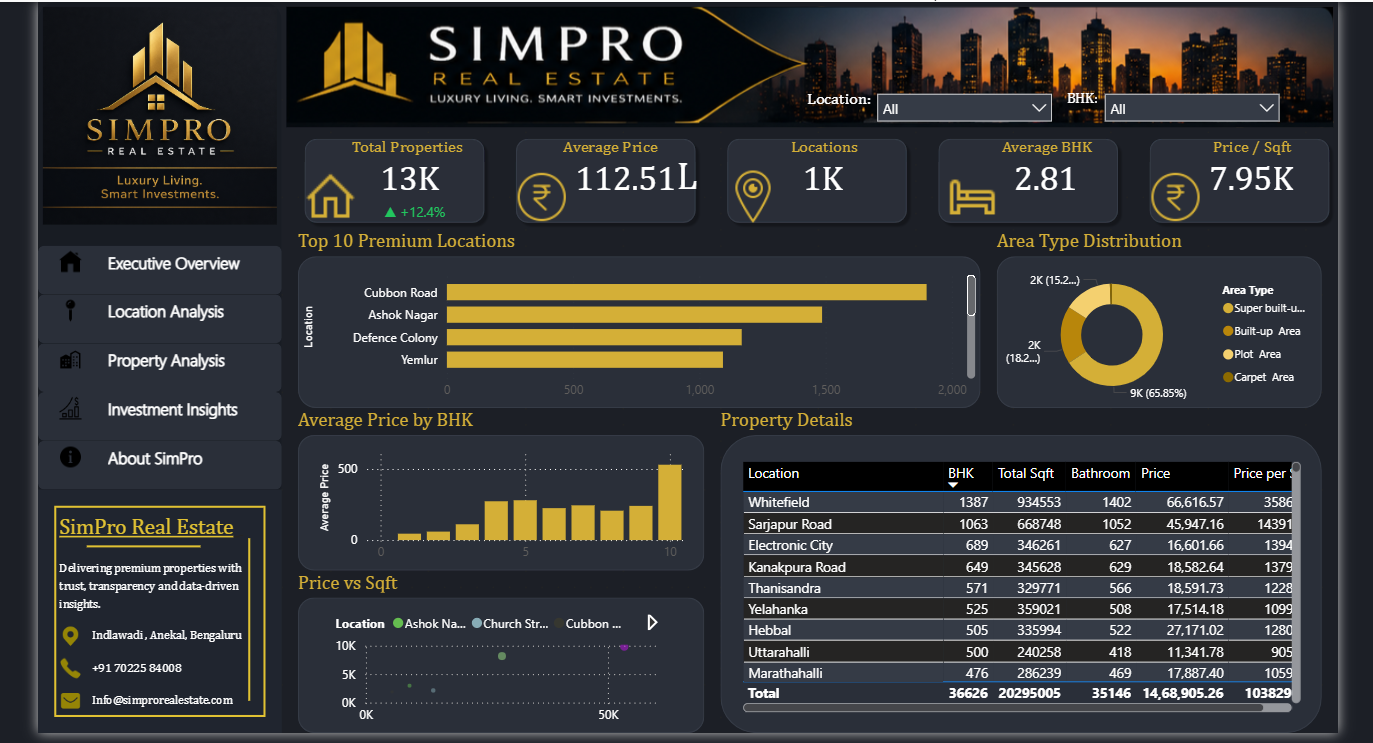

The page's visual inventory and layout, read from the dashboard file:
{"tool":"powerbi","page":{"name":"Page 1","canvas":[1280,720],"ordinal":0},"visuals":[{"type":"shape","box":[0,0,240,720],"z":0},{"type":"image","box":[240,0,1040,128],"z":1000},{"type":"image","box":[0,0,240,224],"z":2000},{"type":"shape","box":[0,240,240,48],"z":3000},{"type":"textbox","box":[64,240,160,32],"z":4000},{"type":"image","box":[16,240,32,32],"z":5000},{"type":"shape","box":[0,288,240,48],"z":6000},{"type":"textbox","box":[64,288,144,32],"z":7000},{"type":"image","box":[16,288,32,32],"z":8000},{"type":"shape","box":[0,336,240,48],"z":9000},{"type":"shape","box":[0,432,240,48],"z":10000},{"type":"shape","box":[0,384,240,48],"z":11000},{"type":"textbox","box":[64,432,112,32],"z":12000},{"type":"image","box":[16,432,32,32],"z":13000},{"type":"image","box":[16,384,32,32],"z":14000},{"type":"image","box":[16,336,32,32],"z":15000},{"type":"textbox","box":[64,384,176,32],"z":16000},{"type":"textbox","box":[64,336,144,32],"z":17000},{"type":"shape","box":[0,480,240,240],"z":18000},{"type":"textbox","box":[16,496,208,160],"z":19000},{"type":"textbox","box":[48,608,192,32],"z":20000},{"type":"image","box":[16,608,32,32],"z":21000},{"type":"image","box":[16,640,32,32],"z":22000},{"type":"textbox","box":[48,640,128,32],"z":23000},{"type":"image","box":[16,672,32,32],"z":24000},{"type":"textbox","box":[48,672,176,32],"z":25000},{"type":"shape","box":[16,496,208,208],"z":26000},{"type":"shape","box":[192,528,32,160],"z":27000},{"type":"shape","box":[48,528,112,16],"z":28000},{"type":"shape","box":[256,128,190,96],"z":29000},{"type":"shape","box":[464,128,190,96],"z":30000},{"type":"shape","box":[672,128,190,96],"z":31000},{"type":"shape","box":[880,128,190,96],"z":32000},{"type":"shape","box":[1088,128,190,96],"z":33000},{"type":"image","box":[256,160,64,64],"z":34000},{"type":"image","box":[464,160,64,64],"z":35000},{"type":"image","box":[672,160,64,64],"z":36000},{"type":"image","box":[880,160,80,64],"z":37000},{"type":"image","box":[1088,160,64,64],"z":38000},{"type":"textbox","box":[304,128,128,32],"z":39000},{"type":"textbox","box":[336,192,96,32],"z":41000},{"type":"textbox","box":[512,128,192,32],"z":42000},{"type":"textbox","box":[736,128,96,32],"z":43000},{"type":"textbox","box":[944,128,112,32],"z":44000},{"type":"textbox","box":[1152,128,96,32],"z":45000},{"type":"shape","title":"Top 10 Premium Locations","box":[256,224,672,176],"z":46000},{"type":"shape","title":"Area Type Distribution","box":[944,224,320,176],"z":47000},{"type":"shape","title":"Price vs Sqft","box":[256,560,400,160],"z":48000},{"type":"shape","title":"Average Price by BHK","box":[256,400,400,160],"z":51000},{"type":"shape","title":"Property Details","box":[672,400,592,320],"z":52000},{"type":"cardVisual","fields":{"Data":["Measures (2).Total Properties"]},"box":[320,128,96,64],"z":52001},{"type":"cardVisual","fields":{"Data":["Measures (2).Average Price"]},"box":[512,128,144,64],"z":52002},{"type":"cardVisual","fields":{"Data":["Measures (2).Total Locations"]},"box":[736,128,80,64],"z":52003},{"type":"cardVisual","fields":{"Data":["Measures (2).Average BHK"]},"box":[944,128,112,64],"z":52004},{"type":"cardVisual","fields":{"Data":["Measures (2).Average Price per Sqft"]},"box":[1136,128,128,64],"z":52005},{"type":"textbox","box":[624,144,32,64],"z":52006},{"type":"clusteredBarChart","fields":{"Category":["Properties.Location"],"Y":["Measures (2).Average Price"]},"box":[256,256,672,144],"z":52007},{"type":"donutChart","fields":{"Y":["Measures (2).Total Properties"],"Category":["Properties.Area_type"]},"box":[944,256,320,144],"z":52008},{"type":"clusteredColumnChart","fields":{"Category":["Properties.BHK"],"Y":["Measures (2).Average Price"]},"box":[272,432,368,128],"z":52009},{"type":"scatterChart","fields":{"X":["Sum(Properties.Total Sqft)"],"Y":["Sum(Properties.Price)"],"Series":["Properties.Location"],"Size":["Sum(Properties.BHK)"]},"box":[288,592,336,128],"z":52010},{"type":"tableEx","fields":{"Values":["Properties.Location","Sum(Properties.BHK)","Sum(Properties.Total Sqft)","Sum(Properties.Bathroom)","Sum(Properties.Price)","Sum(Properties.Price per Sqft)"]},"box":[688,448,560,256],"z":52011},{"type":"image","box":[240,0,1040,128],"z":52012},{"type":"slicer","fields":{"Values":["Properties.Location"]},"box":[816,80,192,48],"z":52013},{"type":"textbox","box":[752,80,96,32],"z":52014},{"type":"slicer","fields":{"Values":["Properties.BHK"]},"box":[1040,80,192,48],"z":52015},{"type":"textbox","box":[1008,80,48,32],"z":52016}]}

Visuals, with their boxes on the page's 1280x720 design canvas (x1, y1, x2, y2). These are canvas units, not pixel positions in the 1373x743 screenshot, which may show the page scaled, cropped or inside an application window:
shape: (x1=0, y1=0, x2=240, y2=720)
image: (x1=240, y1=0, x2=1280, y2=128)
image: (x1=0, y1=0, x2=240, y2=224)
shape: (x1=0, y1=240, x2=240, y2=288)
textbox: (x1=64, y1=240, x2=224, y2=272)
image: (x1=16, y1=240, x2=48, y2=272)
shape: (x1=0, y1=288, x2=240, y2=336)
textbox: (x1=64, y1=288, x2=208, y2=320)
image: (x1=16, y1=288, x2=48, y2=320)
shape: (x1=0, y1=336, x2=240, y2=384)
shape: (x1=0, y1=432, x2=240, y2=480)
shape: (x1=0, y1=384, x2=240, y2=432)
textbox: (x1=64, y1=432, x2=176, y2=464)
image: (x1=16, y1=432, x2=48, y2=464)
image: (x1=16, y1=384, x2=48, y2=416)
image: (x1=16, y1=336, x2=48, y2=368)
textbox: (x1=64, y1=384, x2=240, y2=416)
textbox: (x1=64, y1=336, x2=208, y2=368)
shape: (x1=0, y1=480, x2=240, y2=720)
textbox: (x1=16, y1=496, x2=224, y2=656)
textbox: (x1=48, y1=608, x2=240, y2=640)
image: (x1=16, y1=608, x2=48, y2=640)
image: (x1=16, y1=640, x2=48, y2=672)
textbox: (x1=48, y1=640, x2=176, y2=672)
image: (x1=16, y1=672, x2=48, y2=704)
textbox: (x1=48, y1=672, x2=224, y2=704)
shape: (x1=16, y1=496, x2=224, y2=704)
shape: (x1=192, y1=528, x2=224, y2=688)
shape: (x1=48, y1=528, x2=160, y2=544)
shape: (x1=256, y1=128, x2=446, y2=224)
shape: (x1=464, y1=128, x2=654, y2=224)
shape: (x1=672, y1=128, x2=862, y2=224)
shape: (x1=880, y1=128, x2=1070, y2=224)
shape: (x1=1088, y1=128, x2=1278, y2=224)
image: (x1=256, y1=160, x2=320, y2=224)
image: (x1=464, y1=160, x2=528, y2=224)
image: (x1=672, y1=160, x2=736, y2=224)
image: (x1=880, y1=160, x2=960, y2=224)
image: (x1=1088, y1=160, x2=1152, y2=224)
textbox: (x1=304, y1=128, x2=432, y2=160)
textbox: (x1=336, y1=192, x2=432, y2=224)
textbox: (x1=512, y1=128, x2=704, y2=160)
textbox: (x1=736, y1=128, x2=832, y2=160)
textbox: (x1=944, y1=128, x2=1056, y2=160)
textbox: (x1=1152, y1=128, x2=1248, y2=160)
"Top 10 Premium Locations" shape: (x1=256, y1=224, x2=928, y2=400)
"Area Type Distribution" shape: (x1=944, y1=224, x2=1264, y2=400)
"Price vs Sqft" shape: (x1=256, y1=560, x2=656, y2=720)
"Average Price by BHK" shape: (x1=256, y1=400, x2=656, y2=560)
"Property Details" shape: (x1=672, y1=400, x2=1264, y2=720)
cardVisual - Measures (2).Total Properties: (x1=320, y1=128, x2=416, y2=192)
cardVisual - Measures (2).Average Price: (x1=512, y1=128, x2=656, y2=192)
cardVisual - Measures (2).Total Locations: (x1=736, y1=128, x2=816, y2=192)
cardVisual - Measures (2).Average BHK: (x1=944, y1=128, x2=1056, y2=192)
cardVisual - Measures (2).Average Price per Sqft: (x1=1136, y1=128, x2=1264, y2=192)
textbox: (x1=624, y1=144, x2=656, y2=208)
clusteredBarChart - Properties.Location x Measures (2).Average Price: (x1=256, y1=256, x2=928, y2=400)
donutChart - Measures (2).Total Properties x Properties.Area_type: (x1=944, y1=256, x2=1264, y2=400)
clusteredColumnChart - Properties.BHK x Measures (2).Average Price: (x1=272, y1=432, x2=640, y2=560)
scatterChart - Sum(Properties.Total Sqft) x Sum(Properties.Price): (x1=288, y1=592, x2=624, y2=720)
tableEx - Properties.Location x Sum(Properties.BHK): (x1=688, y1=448, x2=1248, y2=704)
image: (x1=240, y1=0, x2=1280, y2=128)
slicer - Properties.Location: (x1=816, y1=80, x2=1008, y2=128)
textbox: (x1=752, y1=80, x2=848, y2=112)
slicer - Properties.BHK: (x1=1040, y1=80, x2=1232, y2=128)
textbox: (x1=1008, y1=80, x2=1056, y2=112)
